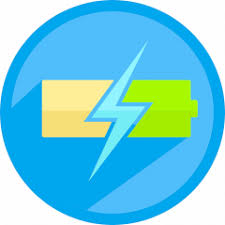charging sign: (36, 48, 203, 178)
